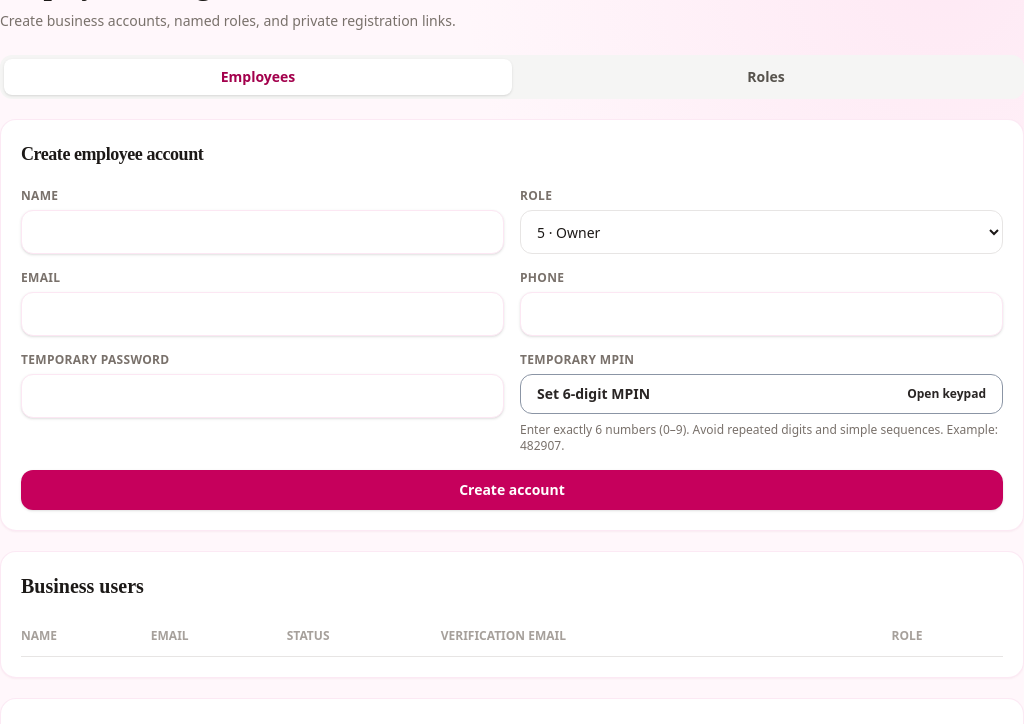
it: discards unsaved permission changes on Cancel
Click the tab "Roles": (766, 77) [512, 59, 1020, 95]
(page scrolled)
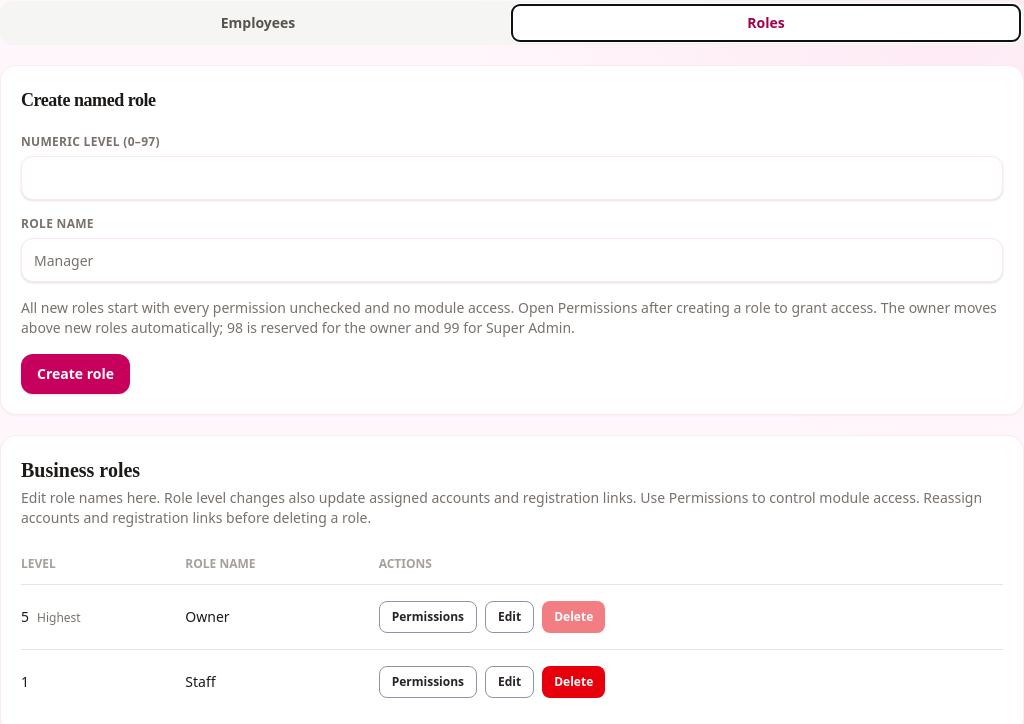
Click the button "Permissions" in the row of "Staff": (428, 682) [379, 666, 477, 698]
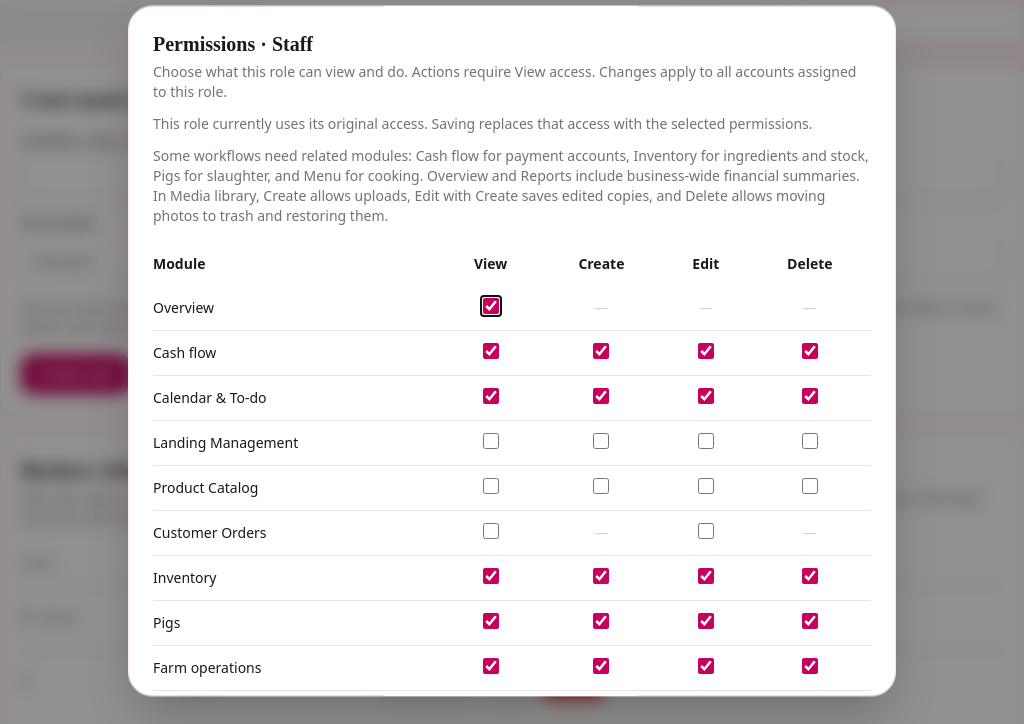
Click the checkbox named "Product Catalog: view": (491, 486) [483, 478, 499, 494]
(page scrolled)
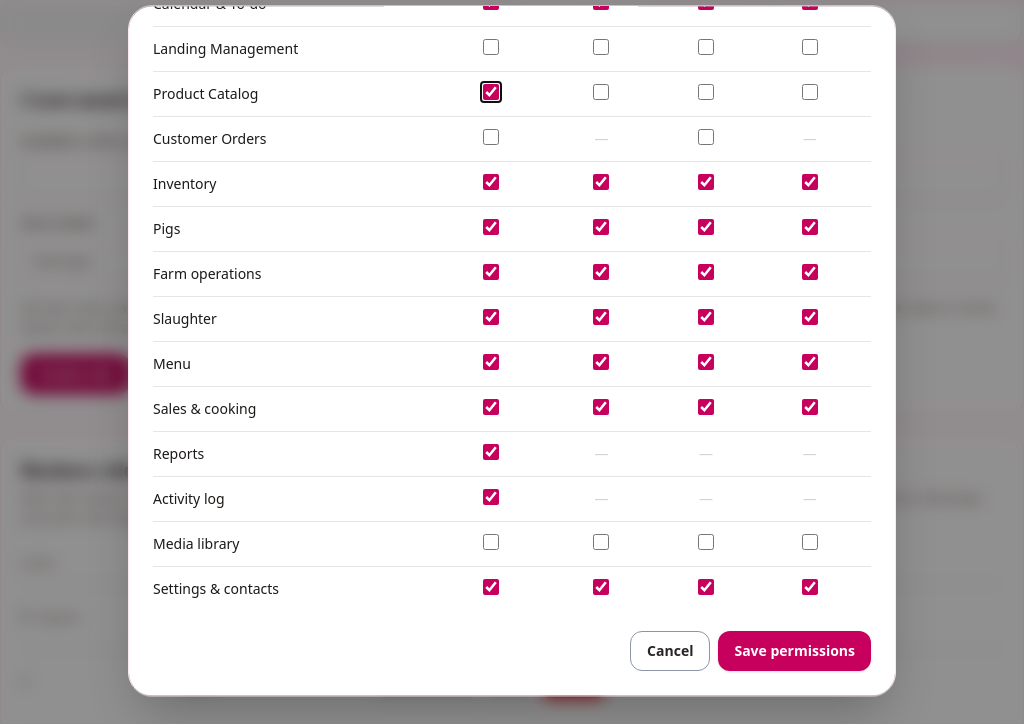
Click the button "Cancel": (670, 651) [630, 631, 710, 671]
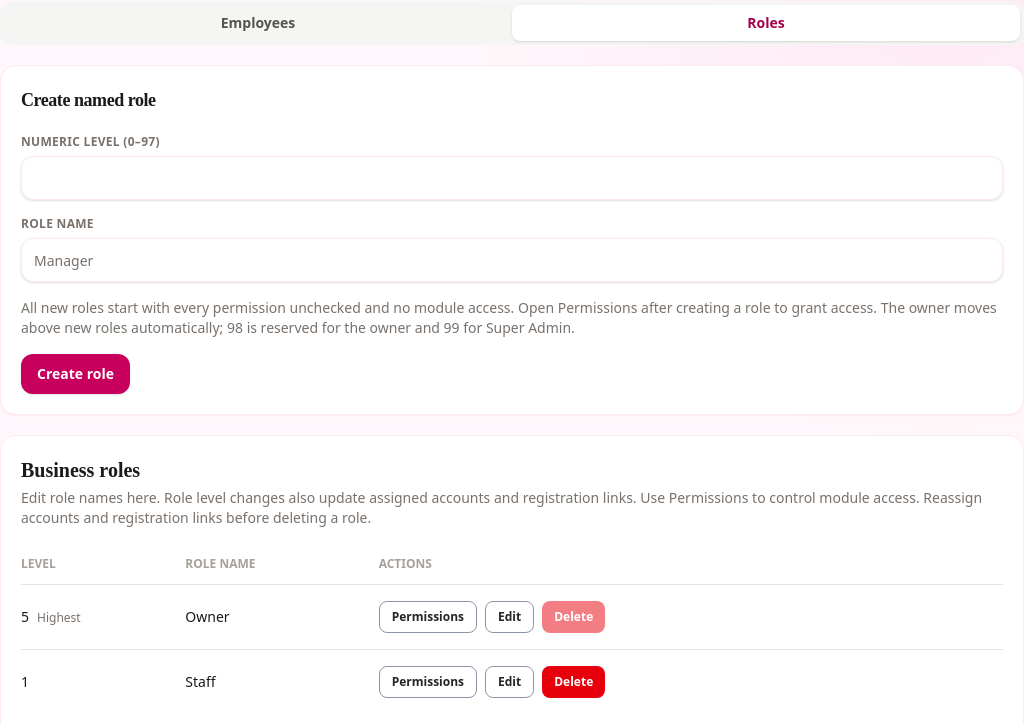
Click the button "Permissions" in the row of "Staff": (428, 682) [379, 666, 477, 698]
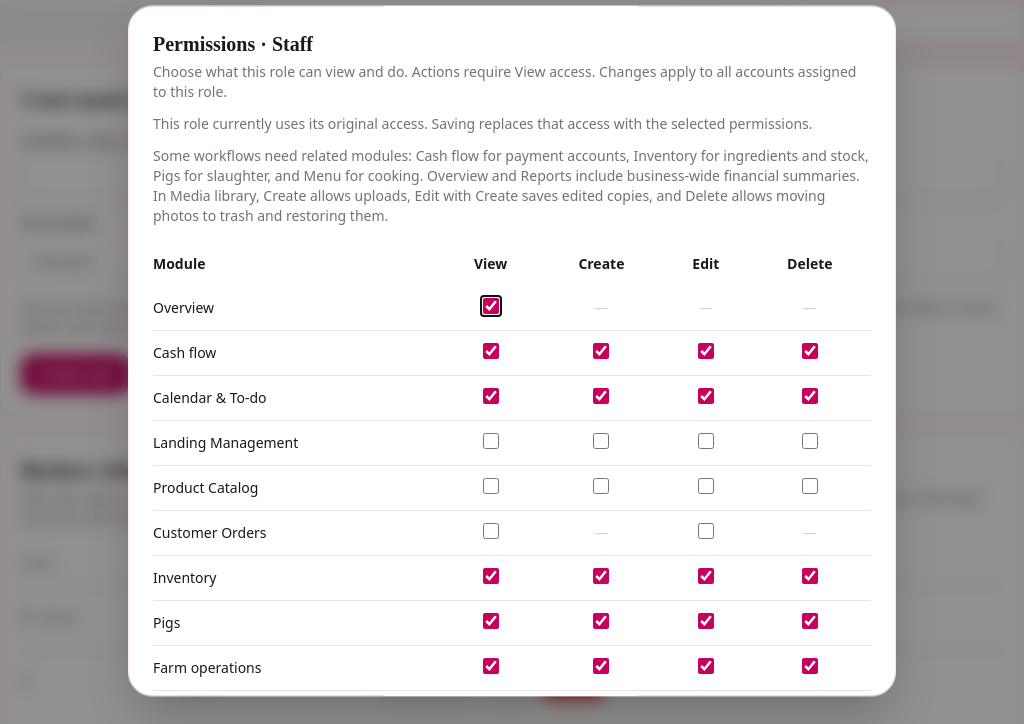
Now the checkbox named "Product Catalog: view" is not checked, box [483, 478, 499, 494]
